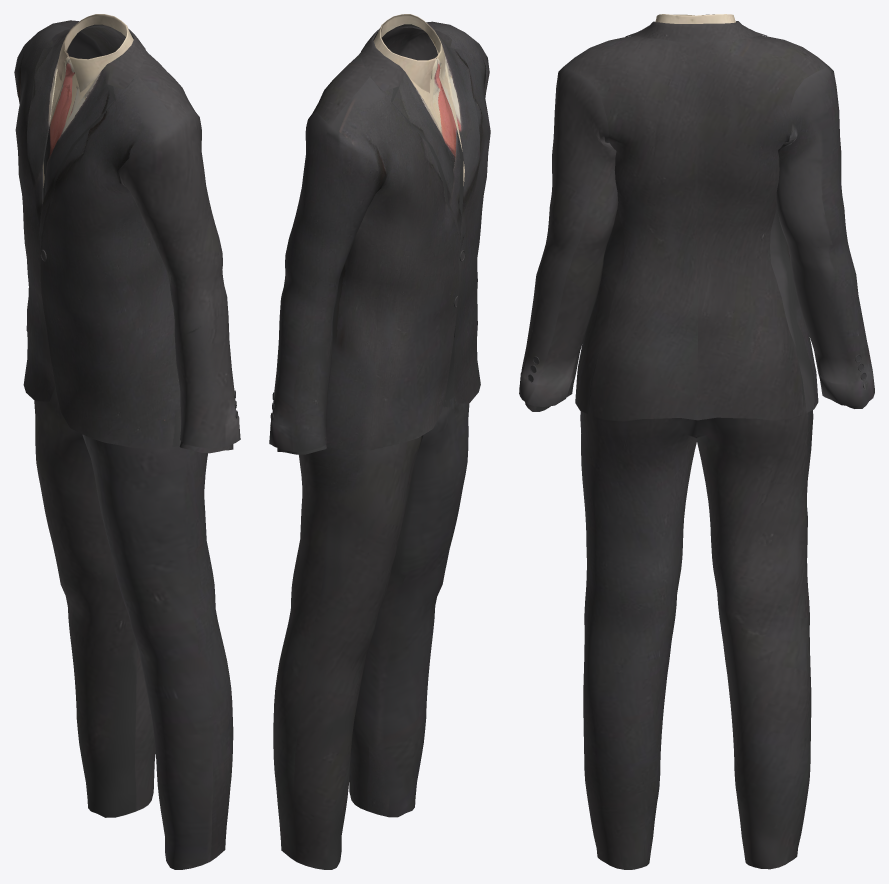
Rendered from vestito.obj.
3 renders of one model, left to right at view 1: azimuth 30°, elevation 25°; view 2: azimuth 150°, elevation 25°; view 3: azimuth 270°, elevation 25°, orthographic.
Visible parts, largest first — view 1: vestito; view 2: vestito; view 3: vestito.
Part boxes in pixels (box(x1,y1,x2,y2)): vestito: box(14, 14, 240, 869); vestito: box(269, 14, 490, 869); vestito: box(519, 14, 874, 869).
Size of the model in its own units: 8.55 by 42.9 by 16.68.
